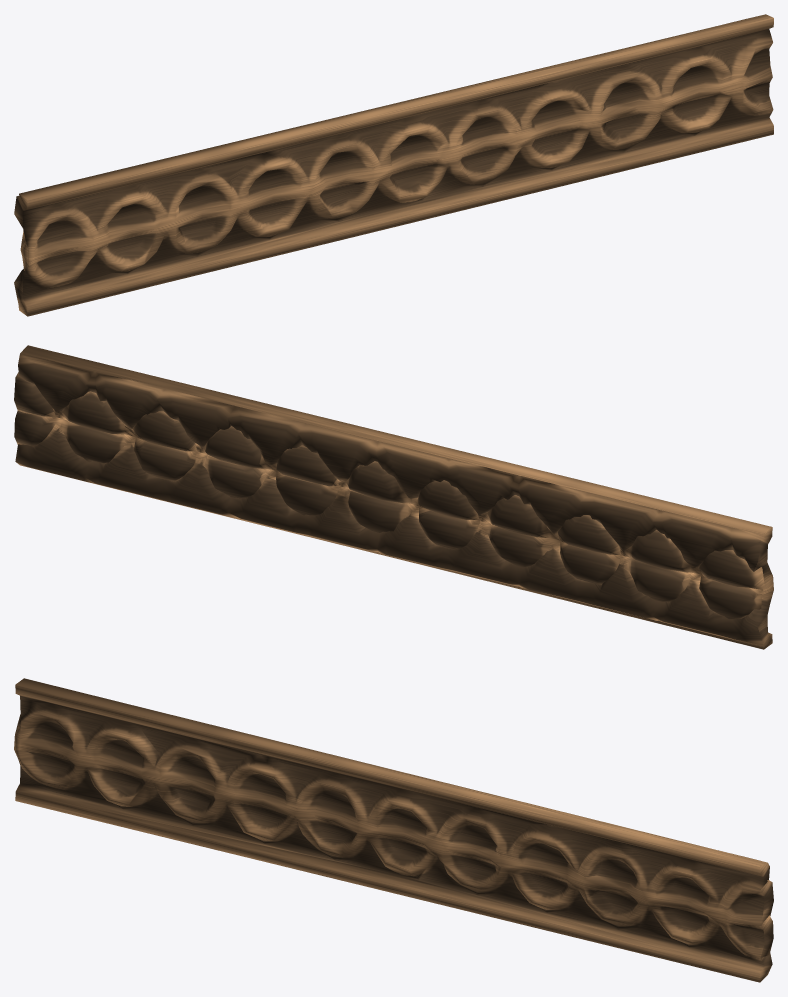
Rendered from carve_ringkjede.glb.
The picture shows the model from 3 angles, top to bottom: view 1: azimuth 30°, elevation 25°; view 2: azimuth 150°, elevation 25°; view 3: azimuth 330°, elevation 25°; orthographic projection.
Parts seen in each view (by area): view 1: relief; view 2: relief; view 3: relief.
Part boxes in pixels (box(x1,y1,x2,y2)): relief: box(14, 14, 773, 316); relief: box(14, 345, 773, 649); relief: box(14, 678, 773, 982).
Bounding box in the file's own units: 2 × 0.2988 × 0.0737.
1 material, 1 textured.
